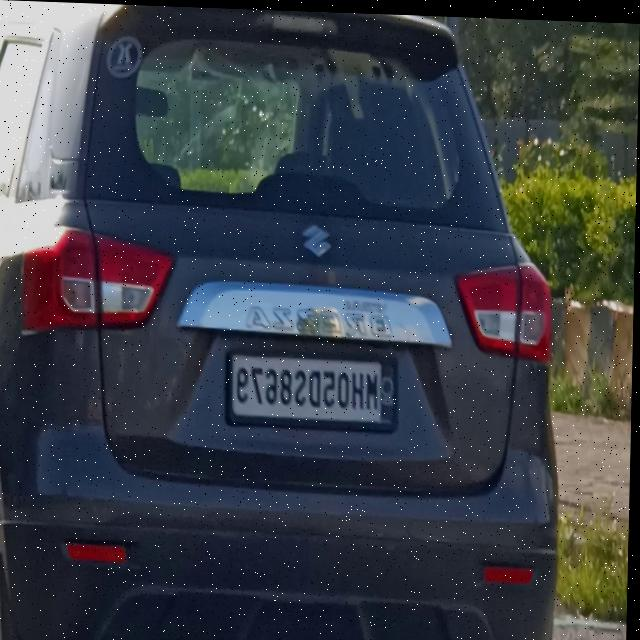plate: (227, 346, 400, 428)
